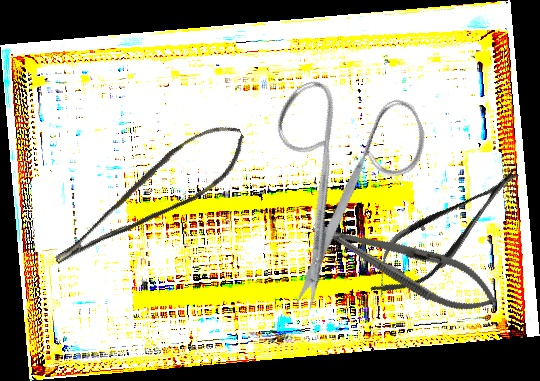Iris Scissors: (218, 48, 473, 317)
Micro Scissor: (34, 113, 260, 272), (353, 152, 537, 312)
Needle Holder: (304, 202, 506, 326)
